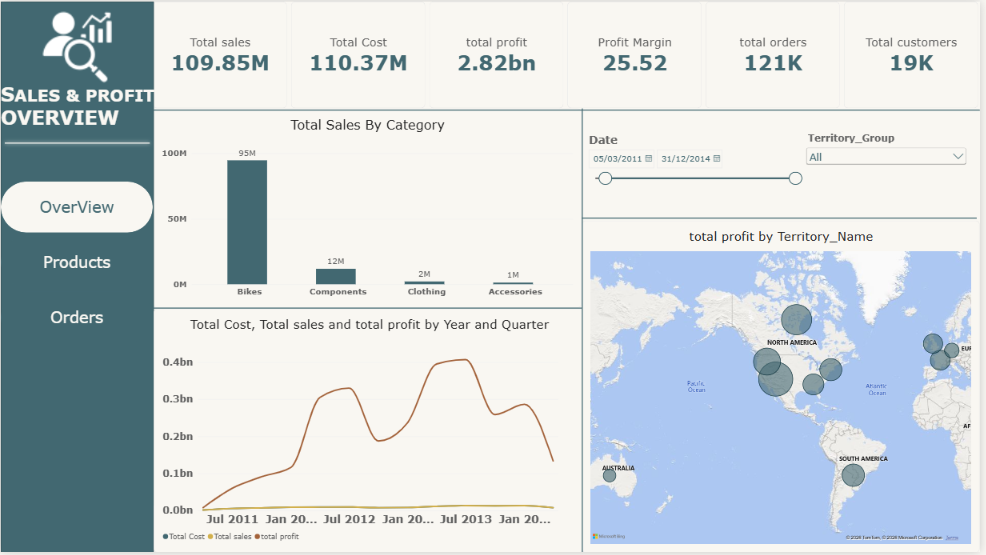

Layout of this report page (visuals, bound fields, positions):
{"tool":"powerbi","page":{"name":"OverView","canvas":[1920,1080],"ordinal":0},"visuals":[{"type":"cardVisual","fields":{"Data":["Measures (2).Total sales","Measures (2).Total Cost","Measures (2).total profit","Measures (2).Profit Margin","Measures (2).total orders","Measures (2).Total customers"]},"box":[298,0,1621.6,209.8],"z":0},{"type":"clusteredColumnChart","title":"Total Sales By Category","fields":{"Category":["dim product.Product_Category"],"Y":["Measures (2).Total sales"]},"box":[298,209.8,841.2,390.2],"z":3},{"type":"shape","box":[0,0,300,1080.4],"z":4},{"type":"lineChart","fields":{"Category":["DATE.Date.Variation.Date Hierarchy.Year","DATE.Date.Variation.Date Hierarchy.Quarter","DATE.Date.Variation.Date Hierarchy.Month"],"Y":["Measures (2).Total Cost","Measures (2).Total sales","Measures (2).total profit"]},"box":[300,602,845.1,478.4],"z":5},{"type":"slicer","fields":{"Values":["Parameter 1.Parameter 1"]},"box":[1280.4,827.5,162.7,147.1],"z":6},{"type":"map","fields":{"Category":["dim territory.Territory_Name"],"Size":["Measures (2).total profit"]},"box":[1139.2,429.4,780.4,651],"z":7},{"type":"textbox","box":[0,158.8,317.6,194.1],"z":8},{"type":"shape","box":[0,223.5,300,107.8],"z":9},{"type":"pageNavigator","box":[0,352.9,298,317.6],"z":10},{"type":"image","box":[0,19.6,300,139.2],"z":11},{"type":"slicer","fields":{"Values":["DATE.Date"]},"box":[1145.1,256.9,429.4,166.7],"z":12},{"type":"slicer","fields":{"Values":["dim territory.Territory_Group"]},"box":[1574.5,256.9,323.5,166.7],"z":13},{"type":"shape","box":[1121.6,209.8,37.3,870.6],"z":14},{"type":"shape","box":[292.2,547.1,847.1,107.8],"z":15},{"type":"shape","box":[298,158.8,1621.6,107.8],"z":16},{"type":"shape","box":[1139.2,370.6,774.5,107.8],"z":17}]}

Visuals, with their boxes in screenshot pixels (x1, y1, x2, y2), scaled from the page's 1920x1080 canvas onto the 986x555 screenshot:
cardVisual - Measures (2).Total sales x Measures (2).Total Cost: 153 0 985 108
"Total Sales By Category" clusteredColumnChart: 153 108 585 308
shape: 0 0 154 554
lineChart - DATE.Date.Variation.Date Hierarchy.Year x DATE.Date.Variation.Date Hierarchy.Quarter: 154 309 588 554
slicer - Parameter 1.Parameter 1: 658 425 741 501
map - dim territory.Territory_Name x Measures (2).total profit: 585 221 985 554
textbox: 0 82 163 181
shape: 0 115 154 170
pageNavigator: 0 181 153 345
image: 0 10 154 82
slicer - DATE.Date: 588 132 809 218
slicer - dim territory.Territory_Group: 809 132 975 218
shape: 576 108 595 554
shape: 150 281 585 337
shape: 153 82 985 137
shape: 585 190 983 246
